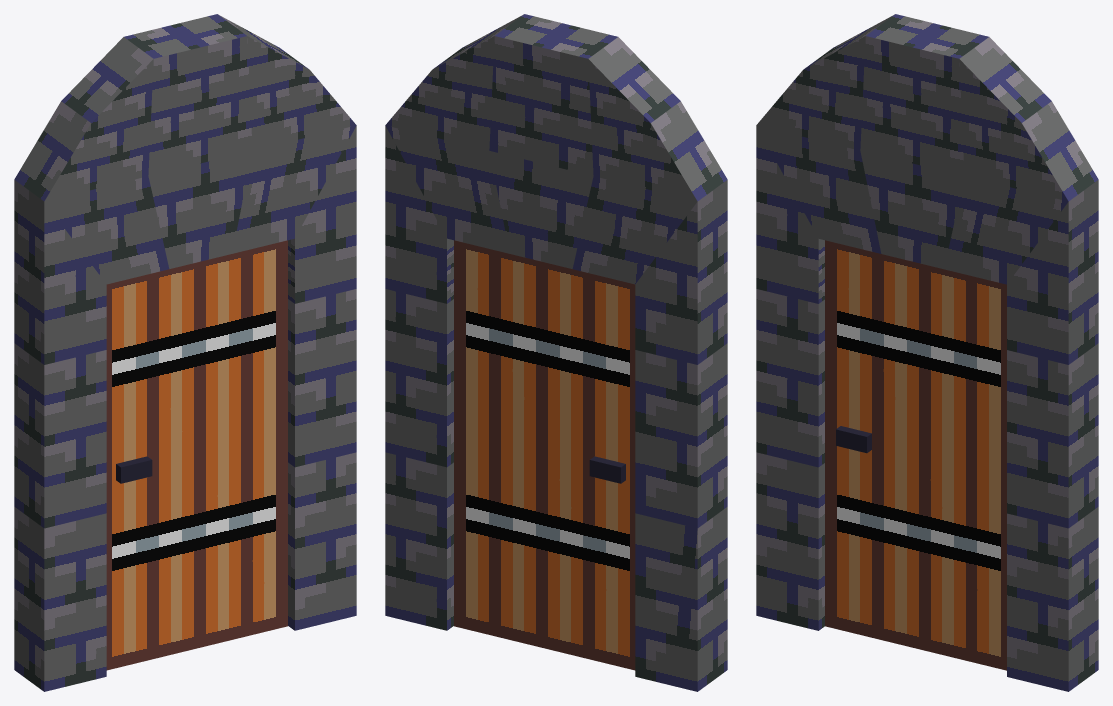
File: door.glb
The picture shows the model from 3 angles, left to right: view 1: azimuth 30°, elevation 25°; view 2: azimuth 150°, elevation 25°; view 3: azimuth 330°, elevation 25°; orthographic projection.
Parts seen in each view (by area): view 1: Door-Enclosure-col, Door; view 2: Door-Enclosure-col, Door; view 3: Door-Enclosure-col, Door.
Boxes of the visible parts, bbox=[...] form: Door-Enclosure-col: bbox=[14, 14, 356, 691]; Door: bbox=[106, 240, 287, 670]; Door-Enclosure-col: bbox=[385, 14, 727, 691]; Door: bbox=[454, 240, 635, 670]; Door-Enclosure-col: bbox=[756, 14, 1098, 691]; Door: bbox=[825, 240, 1006, 670].
Bounding box in the file's own units: 2 × 3.71 × 0.3333.
Materials: 1 (1 with a texture image).
